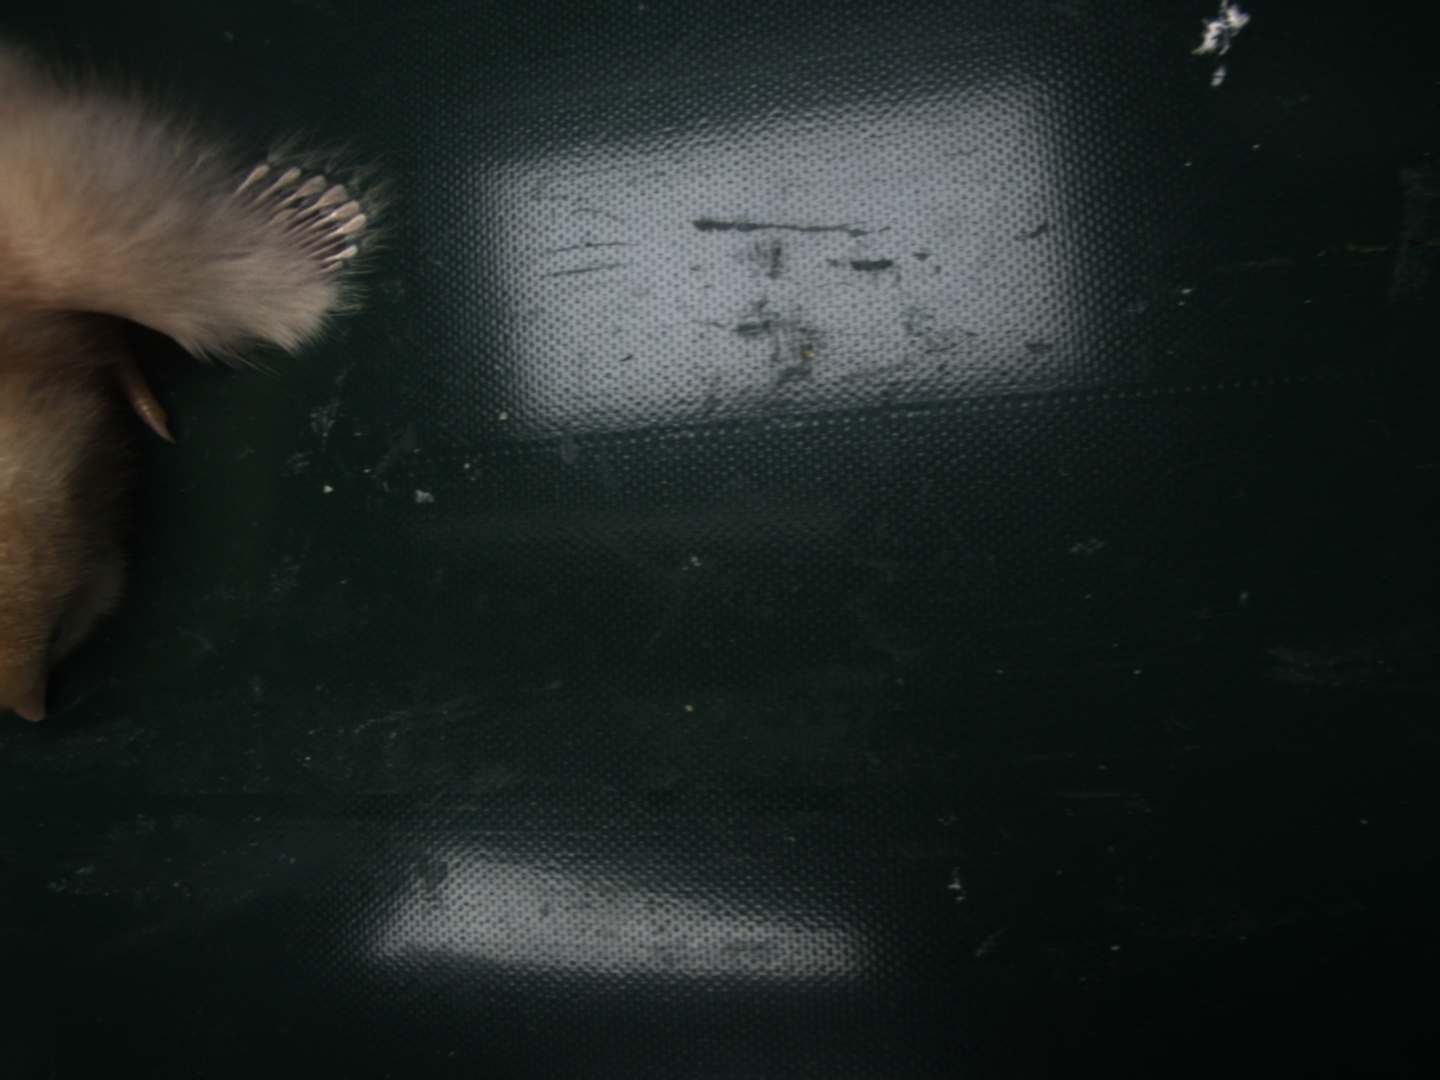female: (228, 160, 366, 275)
